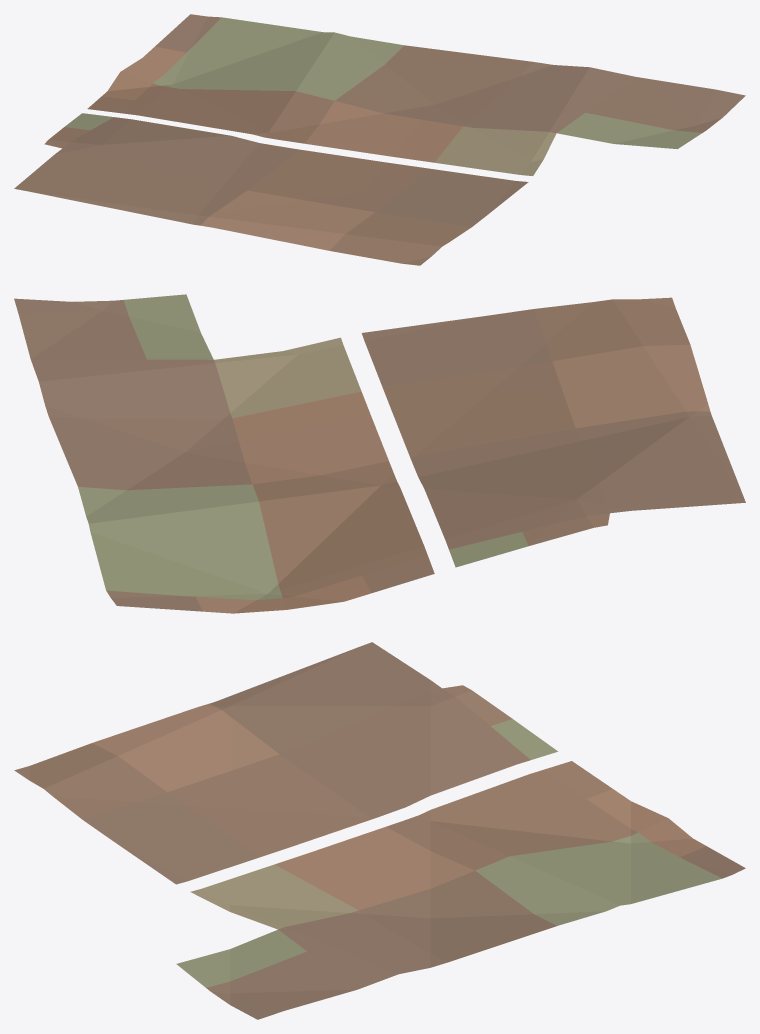
Rendered from farm_-37_-31_soil.glb.
3 views of the same model, one above another, from view 1: azimuth 30°, elevation 25°; view 2: azimuth 150°, elevation 25°; view 3: azimuth 270°, elevation 25° (orthographic). The views are drawn at different scales.
Visible parts, largest first — view 1: geometry_0; view 2: geometry_0; view 3: geometry_0.
Boxes of the visible parts, x1,y1,x2,y2 form: geometry_0: (14, 14, 745, 265); geometry_0: (14, 294, 745, 613); geometry_0: (14, 642, 745, 1019).
Size of the model in its own units: 326 by 25.51 by 292.
